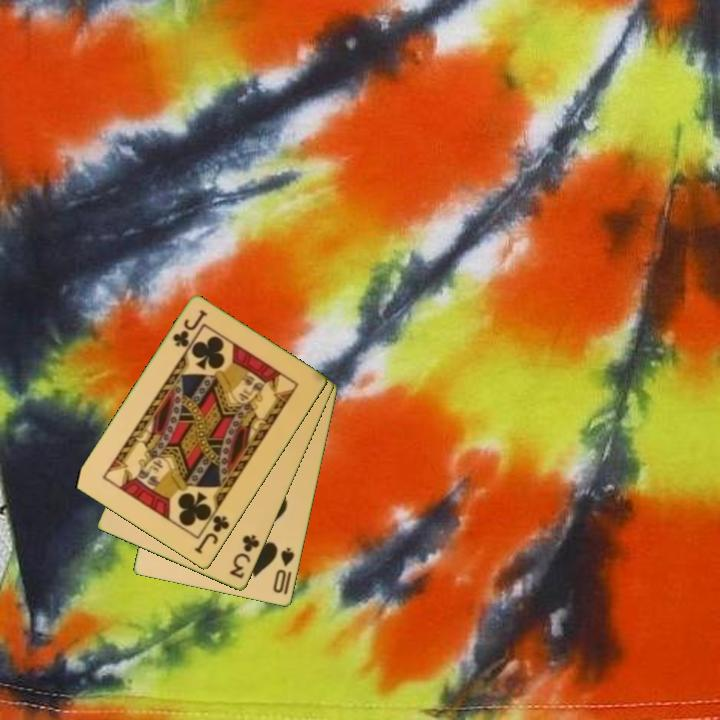10s: (270, 544, 298, 596)
3c: (226, 531, 263, 582)
Jc: (191, 512, 233, 558), (169, 306, 210, 351)
